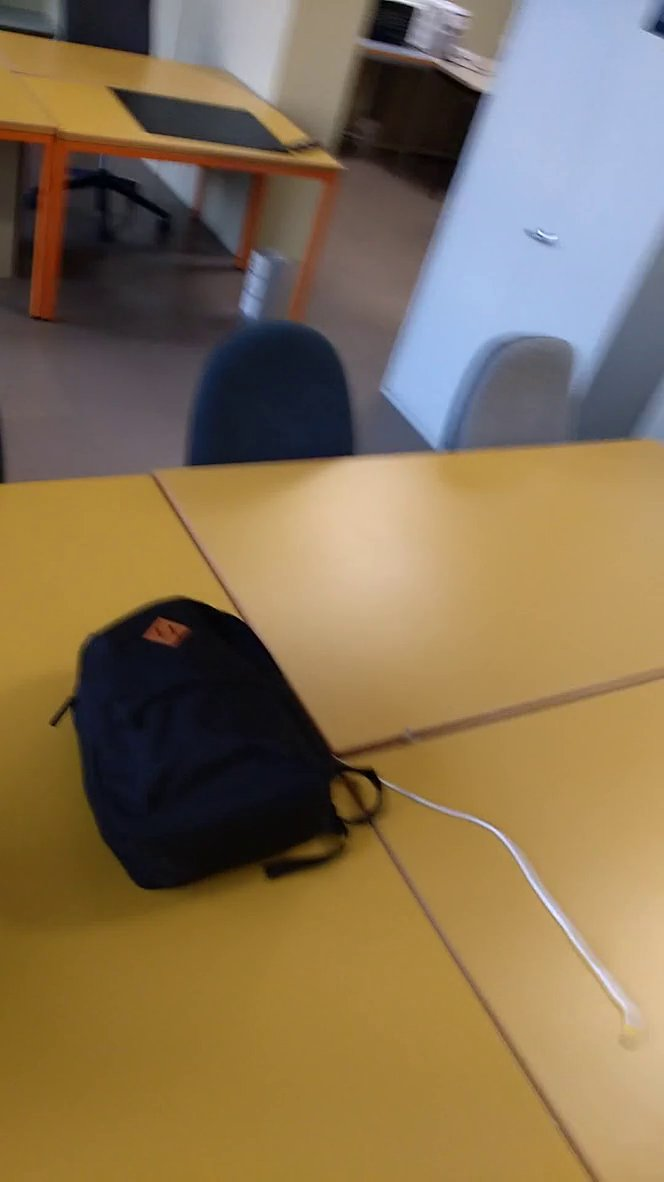bag: (41, 580, 404, 908)
chair: (181, 300, 376, 505), (427, 311, 599, 461)
